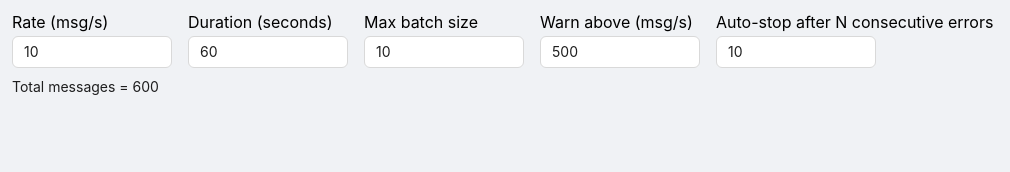
Test: RateControls › updates the total live when the rate changes
The image size is (1010, 172).
Replace the text in the number field labelled "Rate (msg/s)" with "20" at (92, 52), box [13,37,171,67]
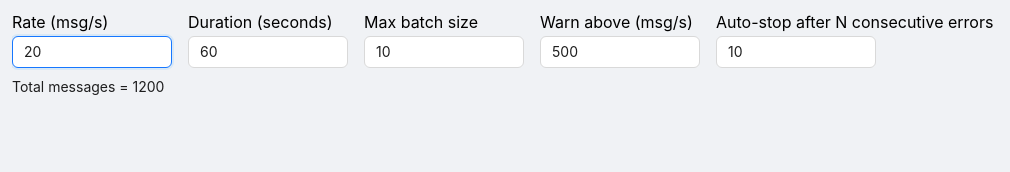
Now the text with test id "total-messages" shows "1200", box [132,78,164,95]
